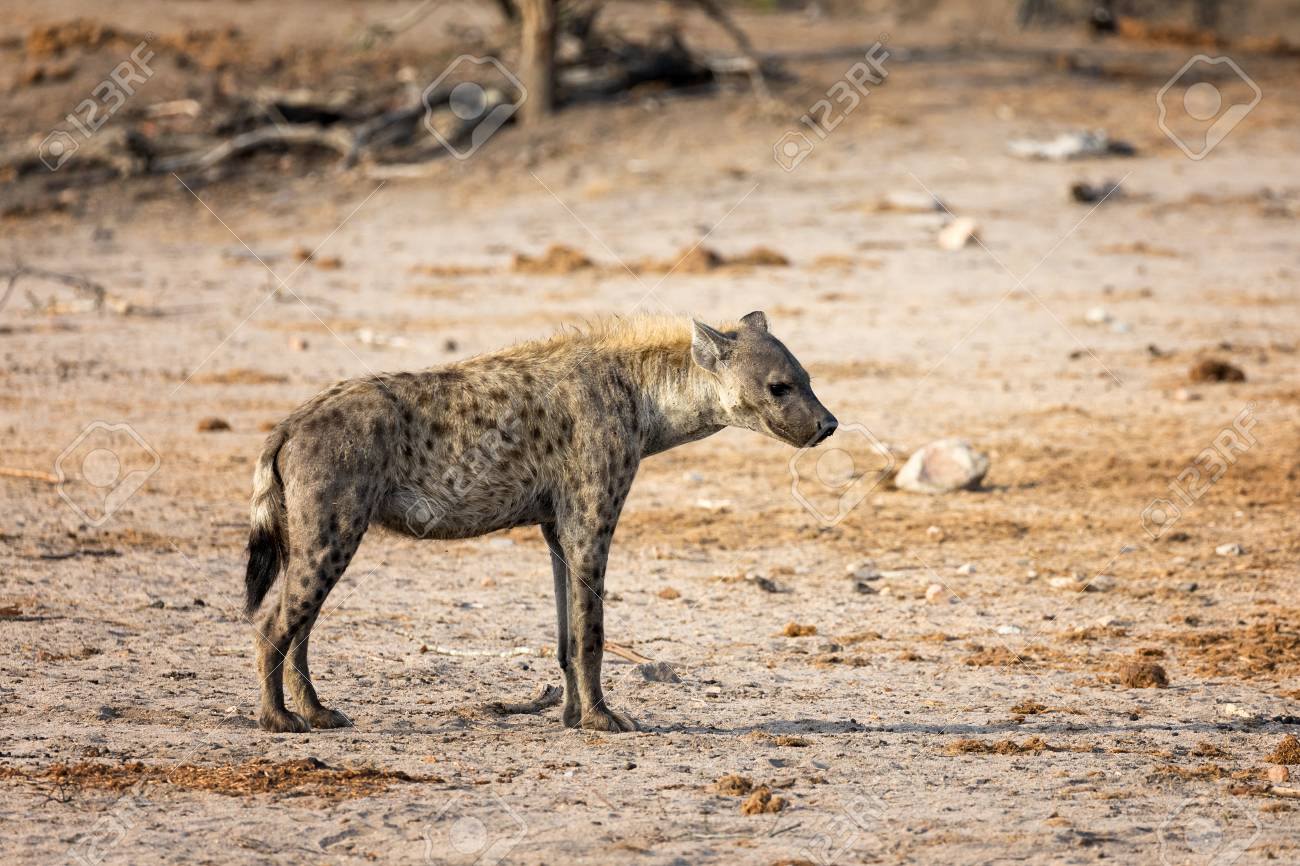hyena: (245, 304, 853, 736)
